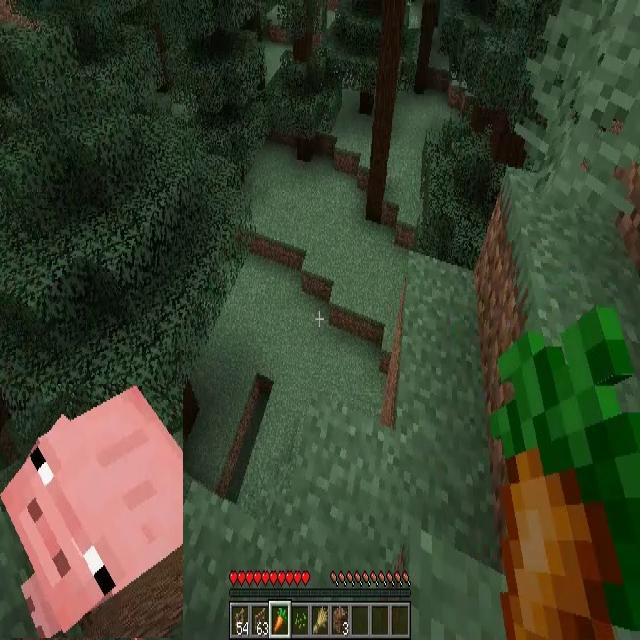pig: (0, 384, 183, 638)
